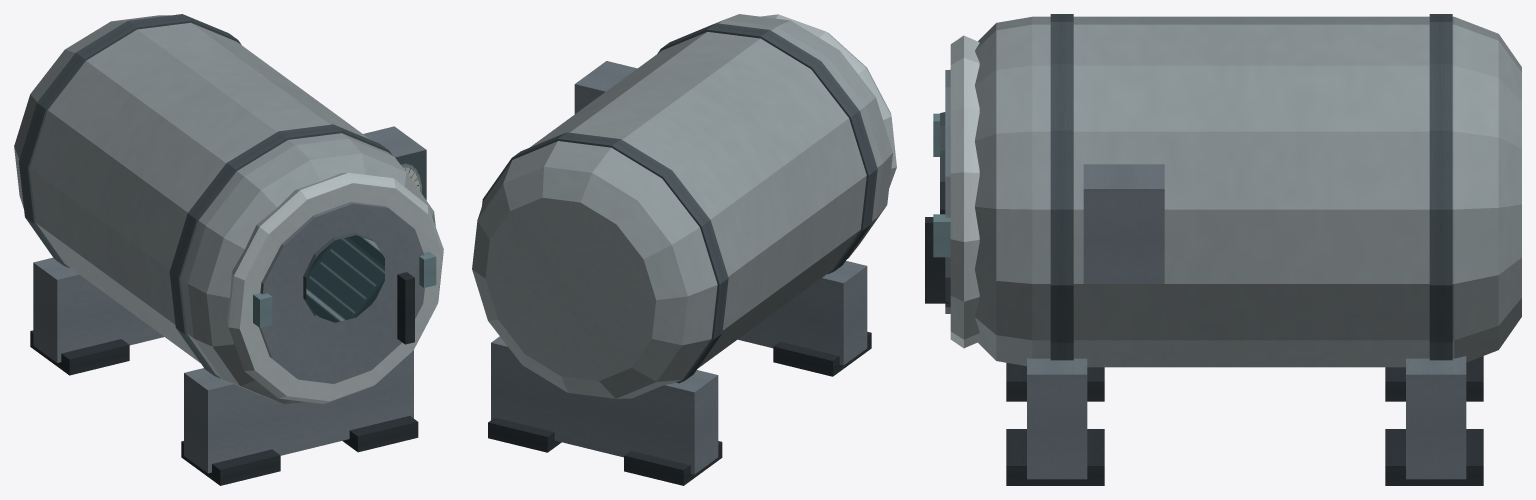
File: Hyperbaric_Chamber.glb
3 renders of one model, left to right at view 1: azimuth 30°, elevation 25°; view 2: azimuth 150°, elevation 25°; view 3: azimuth 270°, elevation 25°, orthographic. The views are drawn at different scales.
Visible parts, largest first — view 1: Hyperbaric_Chamber; view 2: Hyperbaric_Chamber; view 3: Hyperbaric_Chamber.
Boxes of the visible parts, box(x1,y1,x2,y2) form: Hyperbaric_Chamber: box(14, 14, 443, 485); Hyperbaric_Chamber: box(472, 14, 896, 485); Hyperbaric_Chamber: box(925, 14, 1521, 485).
Size of the model in its own units: 1.1 by 1.27 by 1.73.
Materials: 1 (1 with a texture image).
